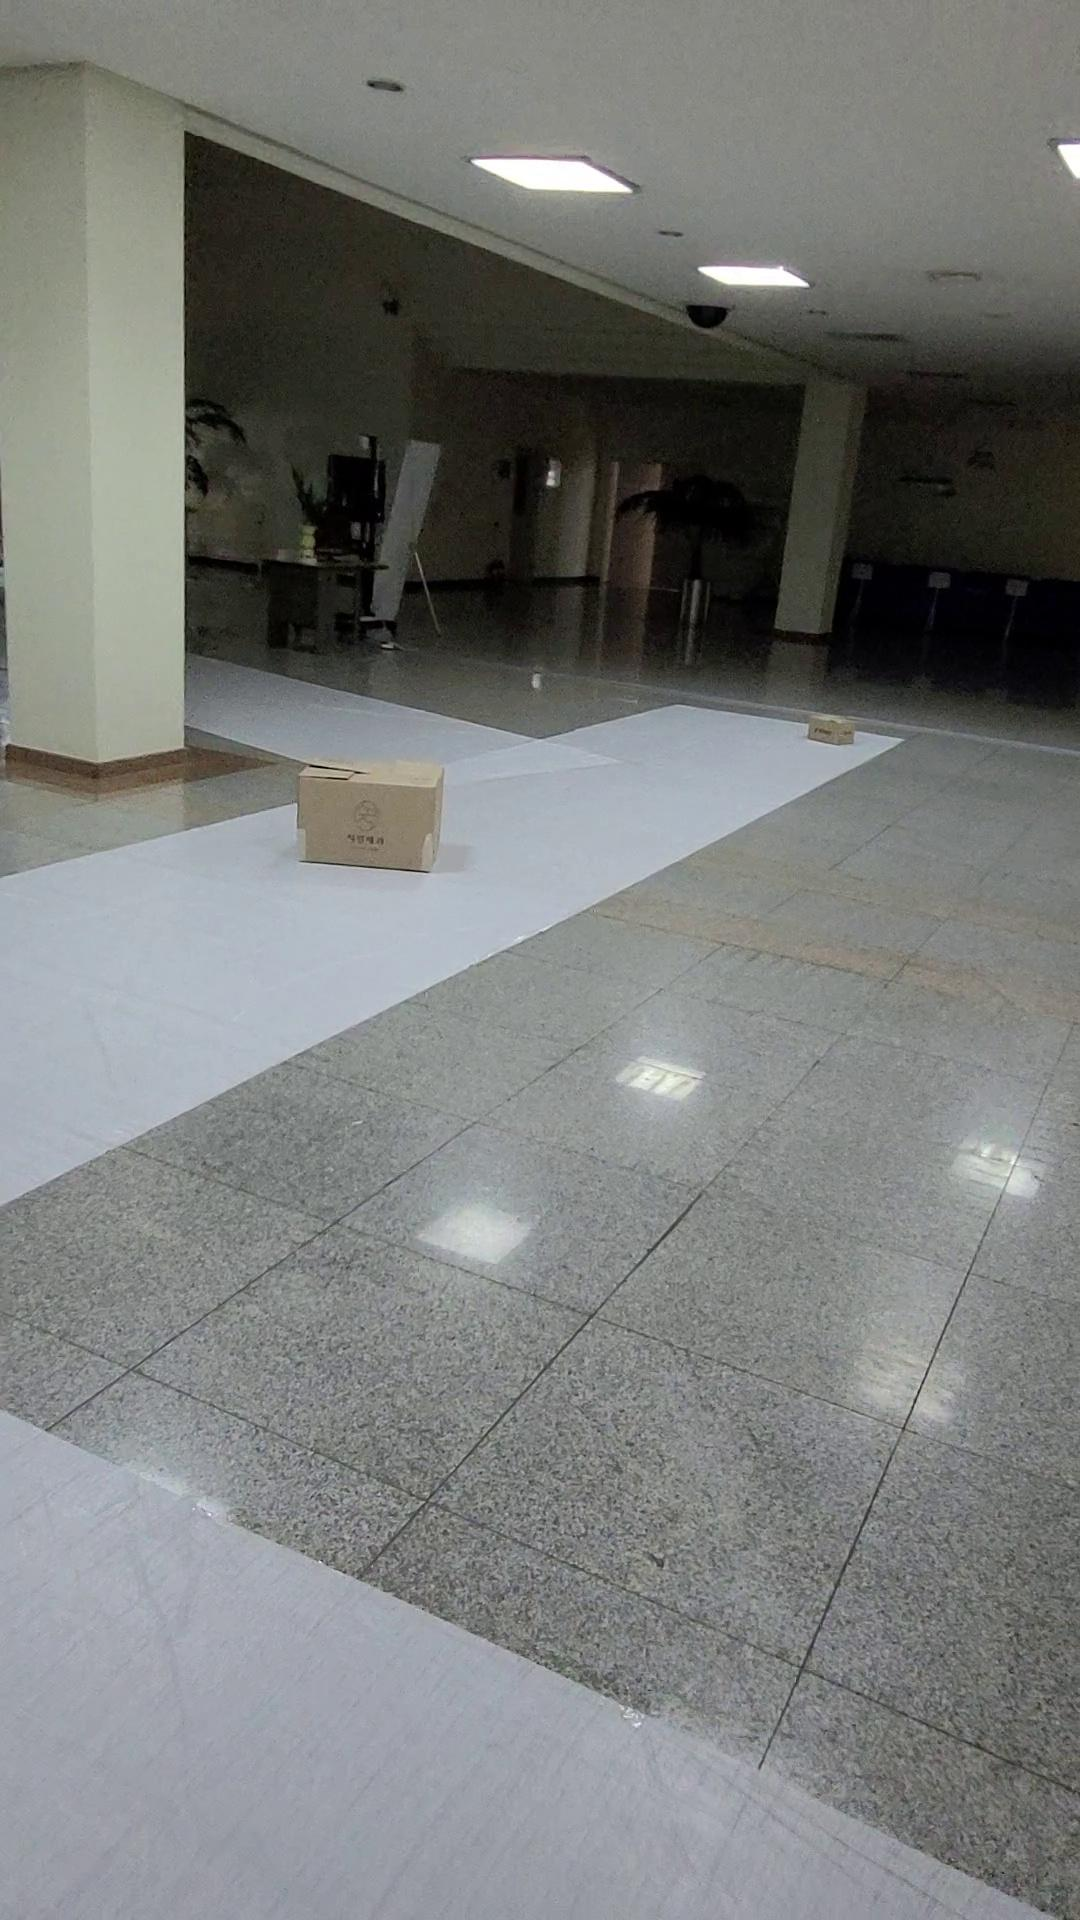Box: (281, 745, 455, 882), (798, 703, 862, 748)
